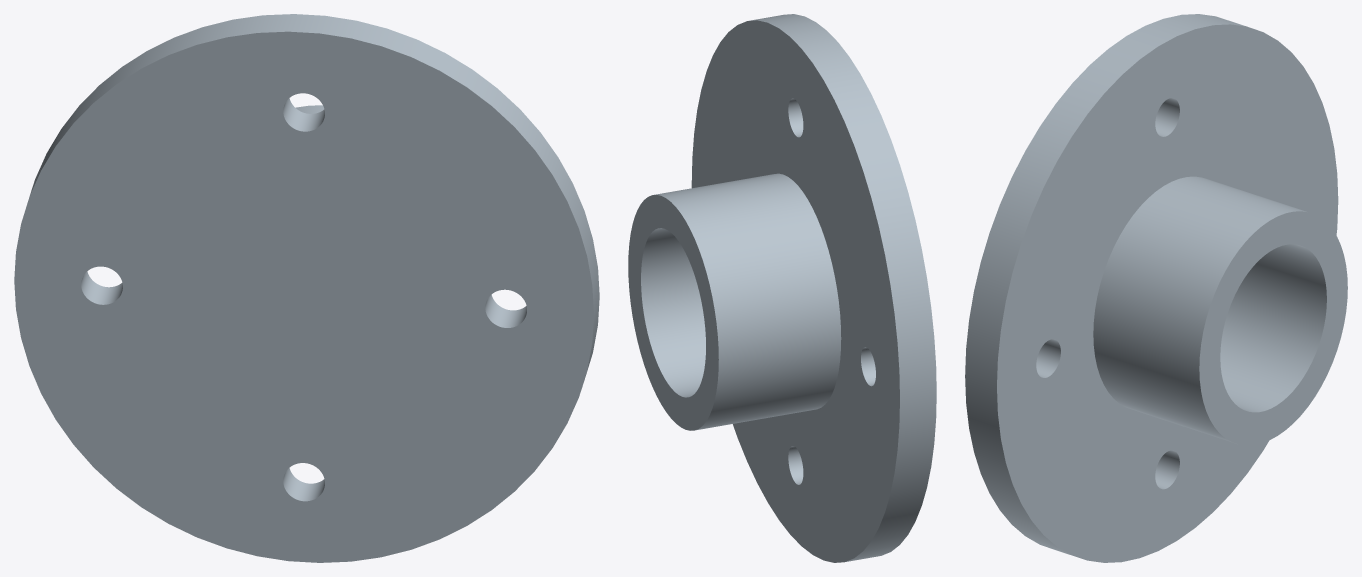
The picture shows the model from 3 angles, left to right: view 1: azimuth 30°, elevation 25°; view 2: azimuth 150°, elevation 25°; view 3: azimuth 270°, elevation 25°; orthographic projection. The views are drawn at different scales.
Visible parts, largest first — view 1: mesh2550, mesh2554, mesh2552, mesh2549, mesh2551, mesh2553; view 2: mesh2548, mesh2547, mesh2554, mesh2545, mesh2546, mesh2552, mesh2549, mesh2553; view 3: mesh2548, mesh2547, mesh2554, mesh2545, mesh2546, mesh2549, mesh2552, mesh2551.
Boxes of the visible parts, x1,y1,x2,y2 form: mesh2550: (14,31,593,562); mesh2554: (30,14,599,387); mesh2552: (283,98,324,131); mesh2549: (283,468,324,501); mesh2551: (485,295,526,327); mesh2553: (81,271,122,304); mesh2548: (691,20,899,562); mesh2547: (654,173,841,430); mesh2554: (749,14,936,561); mesh2545: (641,228,705,397); mesh2546: (628,195,718,430); mesh2552: (788,98,803,137); mesh2549: (788,446,803,484); mesh2553: (861,347,875,386); mesh2548: (997,24,1338,562); mesh2547: (1093,176,1306,441); mesh2554: (965,14,1246,557); mesh2545: (1220,244,1326,412); mesh2546: (1199,211,1347,445); mesh2549: (1155,450,1179,489); mesh2552: (1155,98,1179,136); mesh2551: (1036,339,1060,377).
Bounding box in the file's own units: 0.0174 × 0.0208 × 0.0143.
